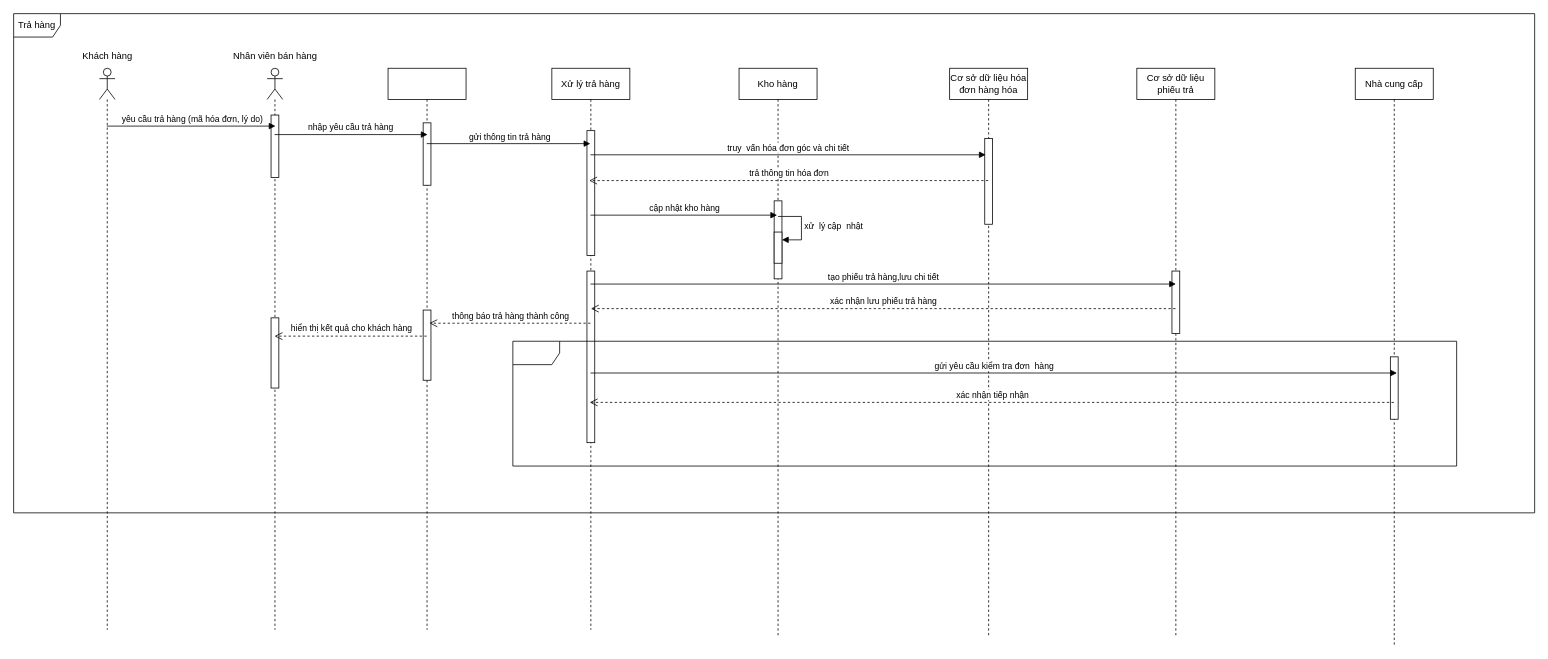
The diagram is 1548 pixels wide and 659 high, and some of its shapes have lost their labels. Here are the shapes that lost their labels. From the top down, the centre of each, then its label:
At point (426, 348): "Giao diện trả hàng".
At point (984, 403): "alt".
